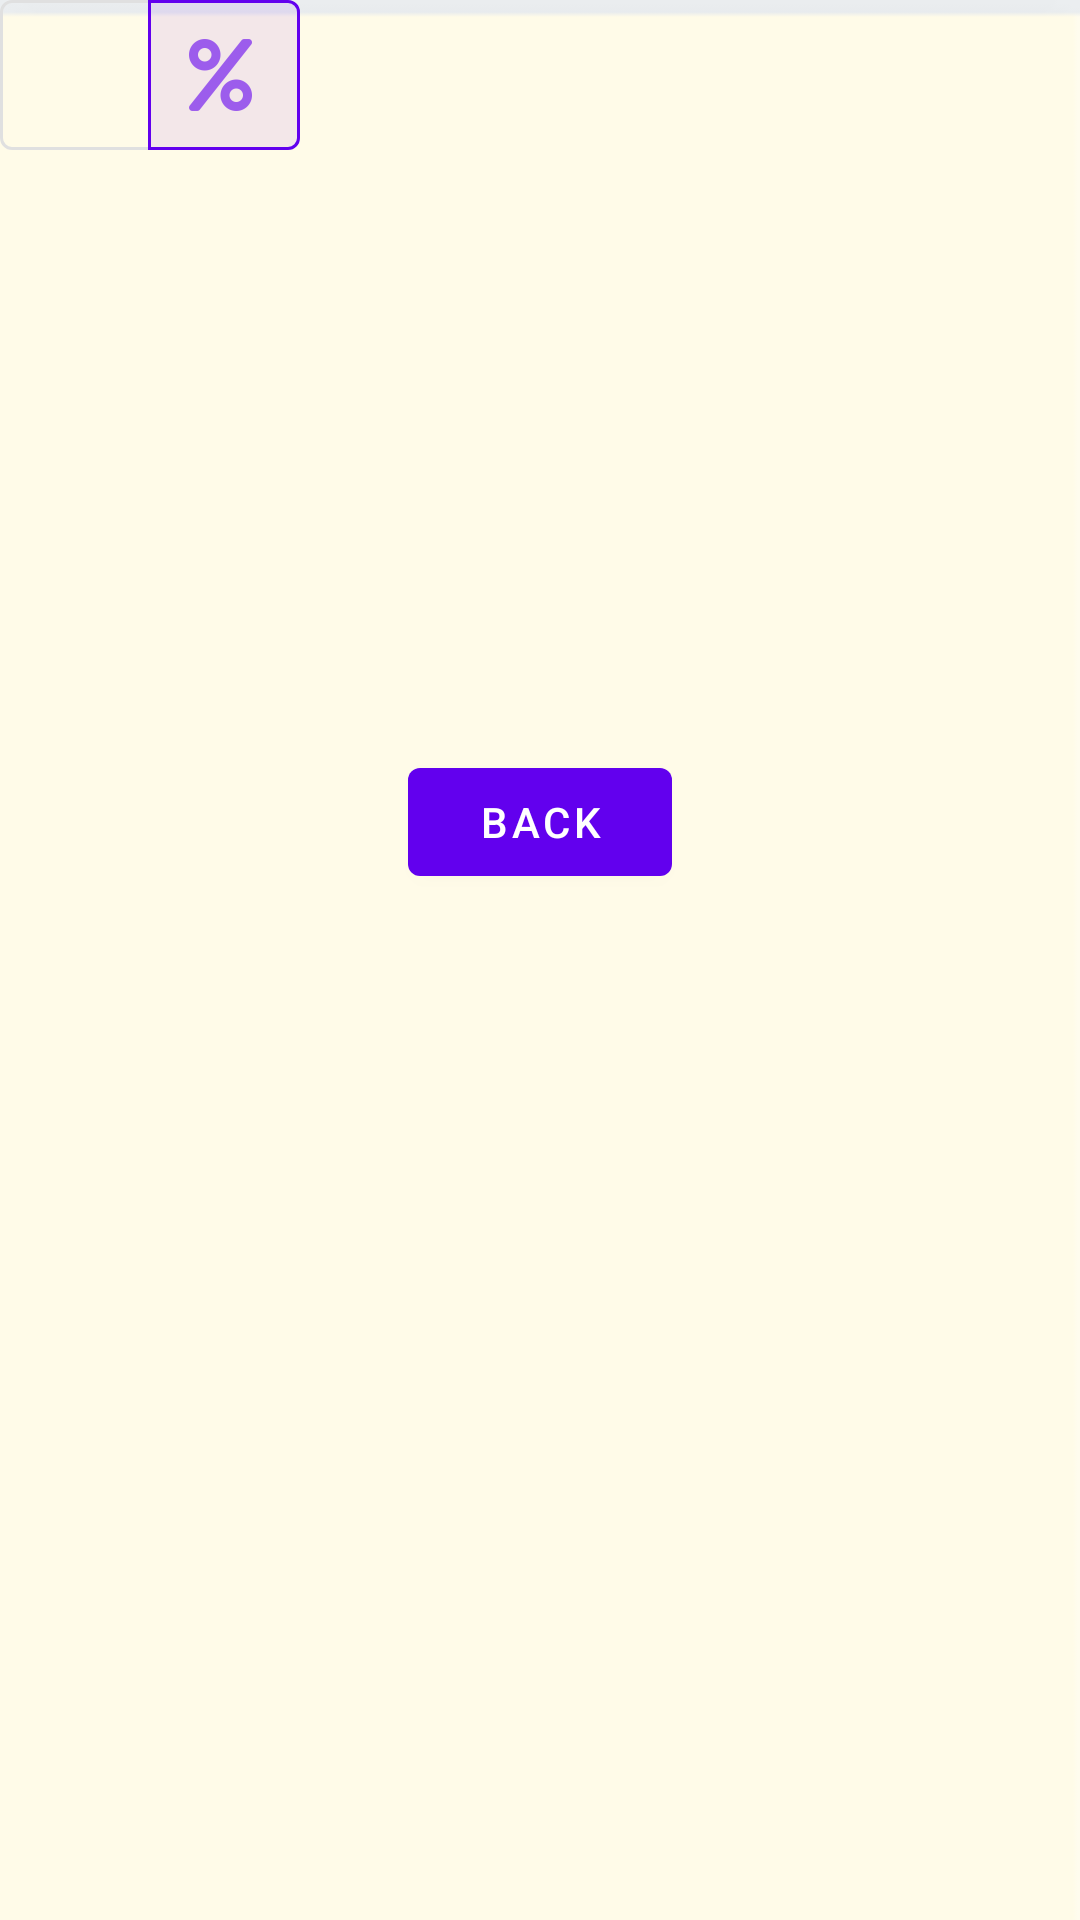

Named icons in this screenshot (1080w x 1920h) and their bounding boxes, (x1, y1, x2, y2):
percent: (148, 0, 300, 150)
